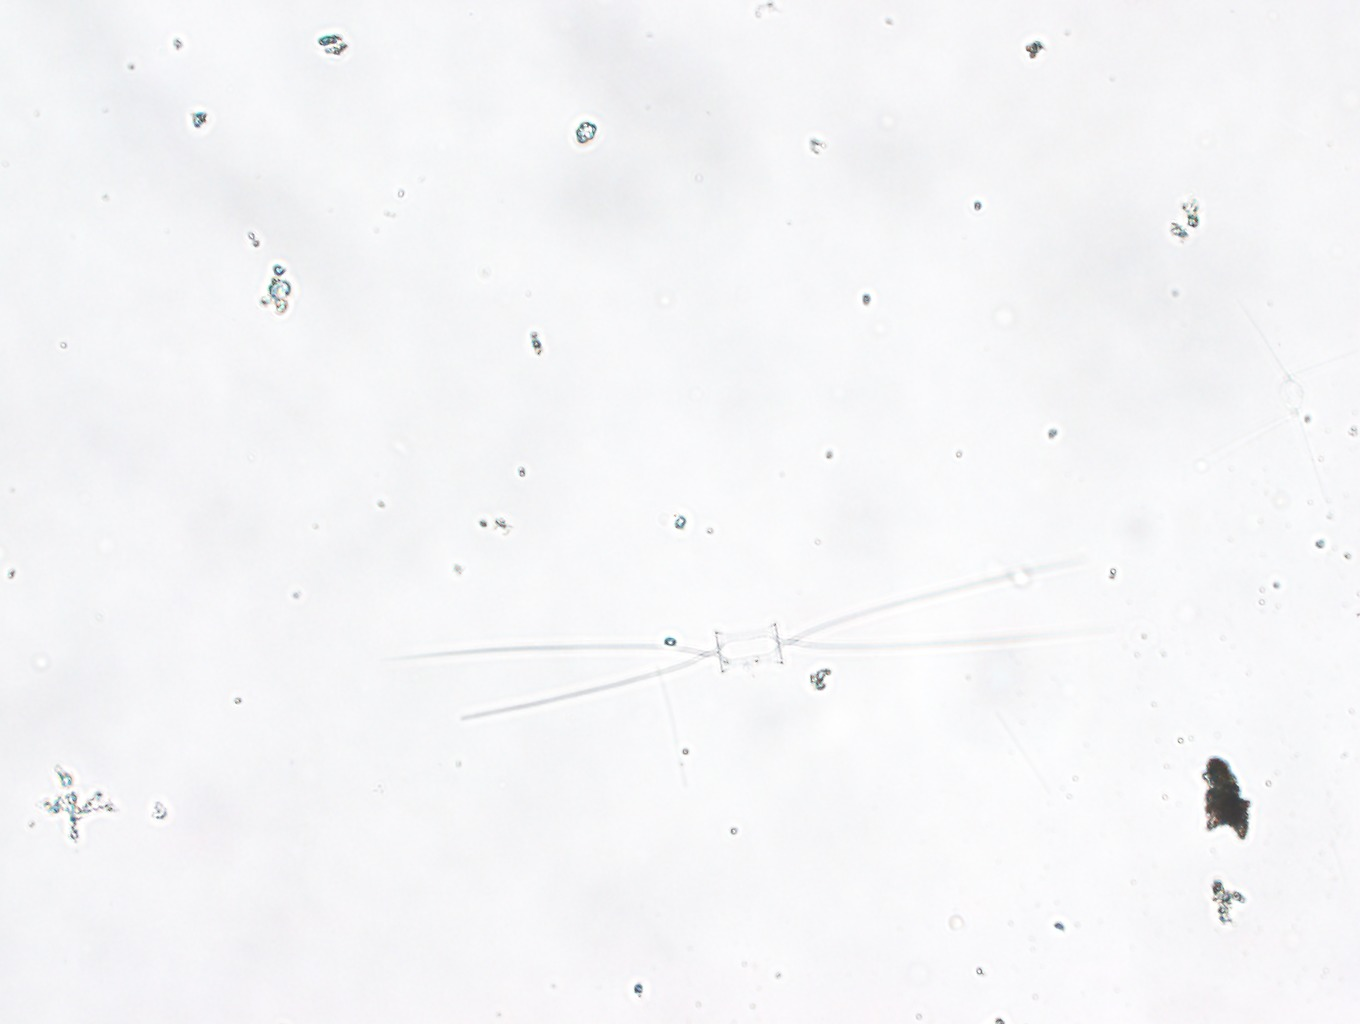chaetoceros: (381, 556, 1094, 725)
